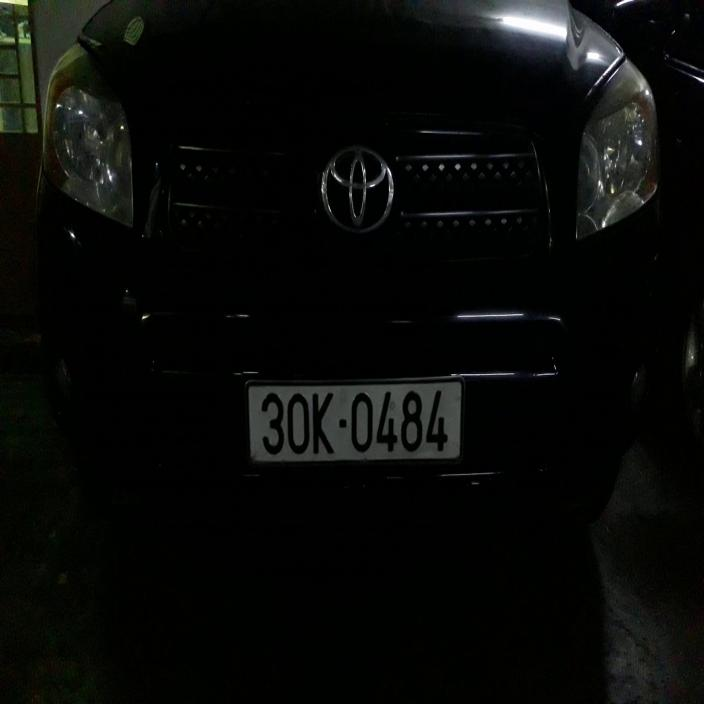numplate: (238, 376, 480, 480)
